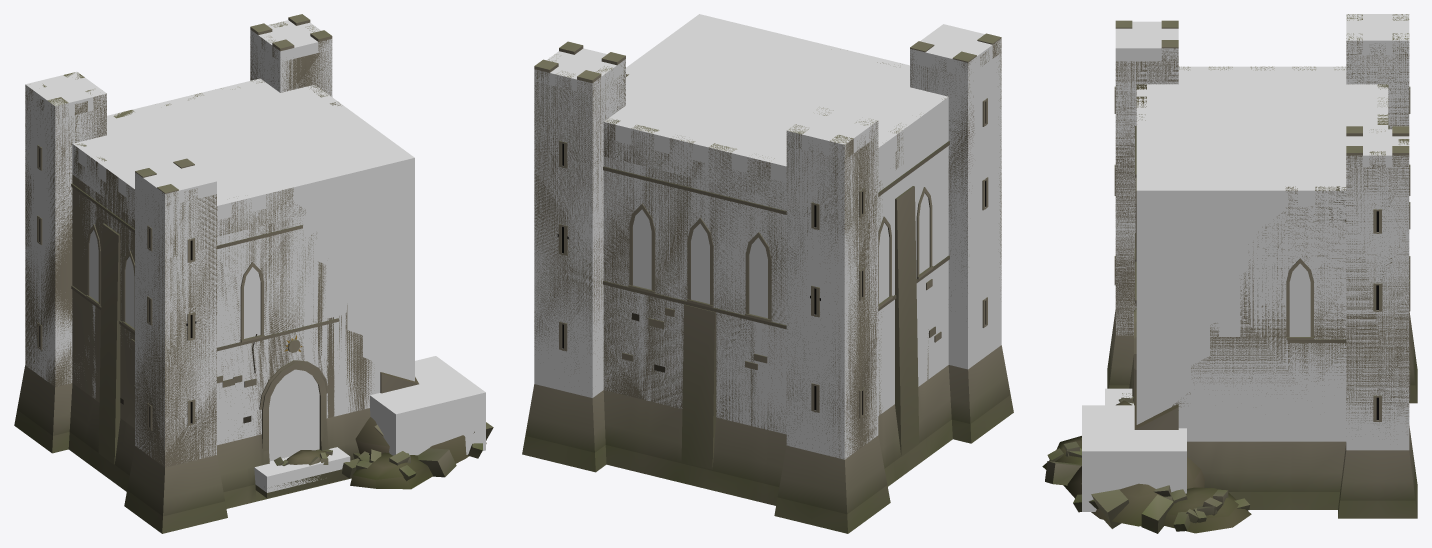
File: castle_keep.glb
3 views of the same model, side by side, from view 1: azimuth 30°, elevation 25°; view 2: azimuth 150°, elevation 25°; view 3: azimuth 270°, elevation 25° (orthographic). The views are drawn at different scales.
Visible parts, largest first — view 1: castle_keep, COL_body, COL_turret_fl, COL_turret_bl, COL_collapse, COL_turret_br, COL_steps; view 2: castle_keep, COL_body, COL_turret_bl, COL_turret_br, COL_turret_fl; view 3: COL_body, castle_keep, COL_turret_br, COL_turret_fl, COL_collapse, COL_turret_bl.
Part boxes in pixels (x1,y1,x2,y2): castle_keep: [14, 14, 493, 533]; COL_body: [72, 78, 414, 461]; COL_turret_fl: [135, 163, 216, 463]; COL_turret_bl: [25, 71, 106, 384]; COL_collapse: [370, 356, 485, 455]; COL_turret_br: [250, 20, 332, 96]; COL_steps: [254, 447, 350, 492]; castle_keep: [522, 33, 1013, 533]; COL_body: [603, 14, 948, 434]; COL_turret_bl: [786, 106, 878, 459]; COL_turret_br: [534, 48, 625, 397]; COL_turret_fl: [910, 24, 1001, 369]; COL_body: [1136, 66, 1388, 441]; castle_keep: [1042, 14, 1417, 533]; COL_turret_br: [1346, 129, 1409, 450]; COL_turret_fl: [1115, 21, 1178, 335]; COL_collapse: [1082, 405, 1186, 511]; COL_turret_bl: [1346, 14, 1409, 129].
Size of the model in its own units: 20.27 by 19.05 by 17.89.
